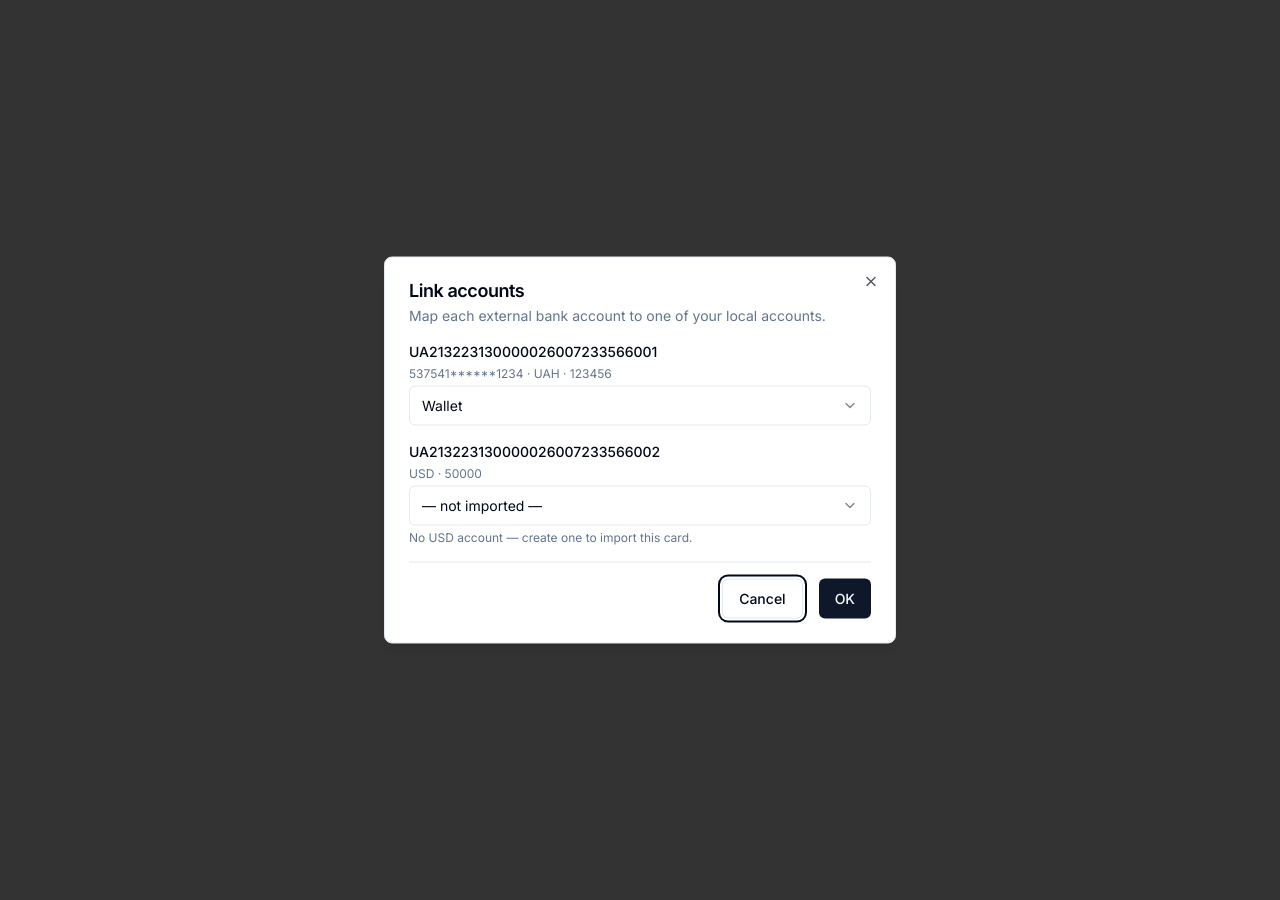
LinkAccountsDialog › keeps the sole current mapping selectable and hides the empty-state hint
What coordinates should you click on to do the following:
click the dropdown named "UA213223130000026007233566001"
I would click on:
 (442, 405)
Its box is [409,386,871,426].
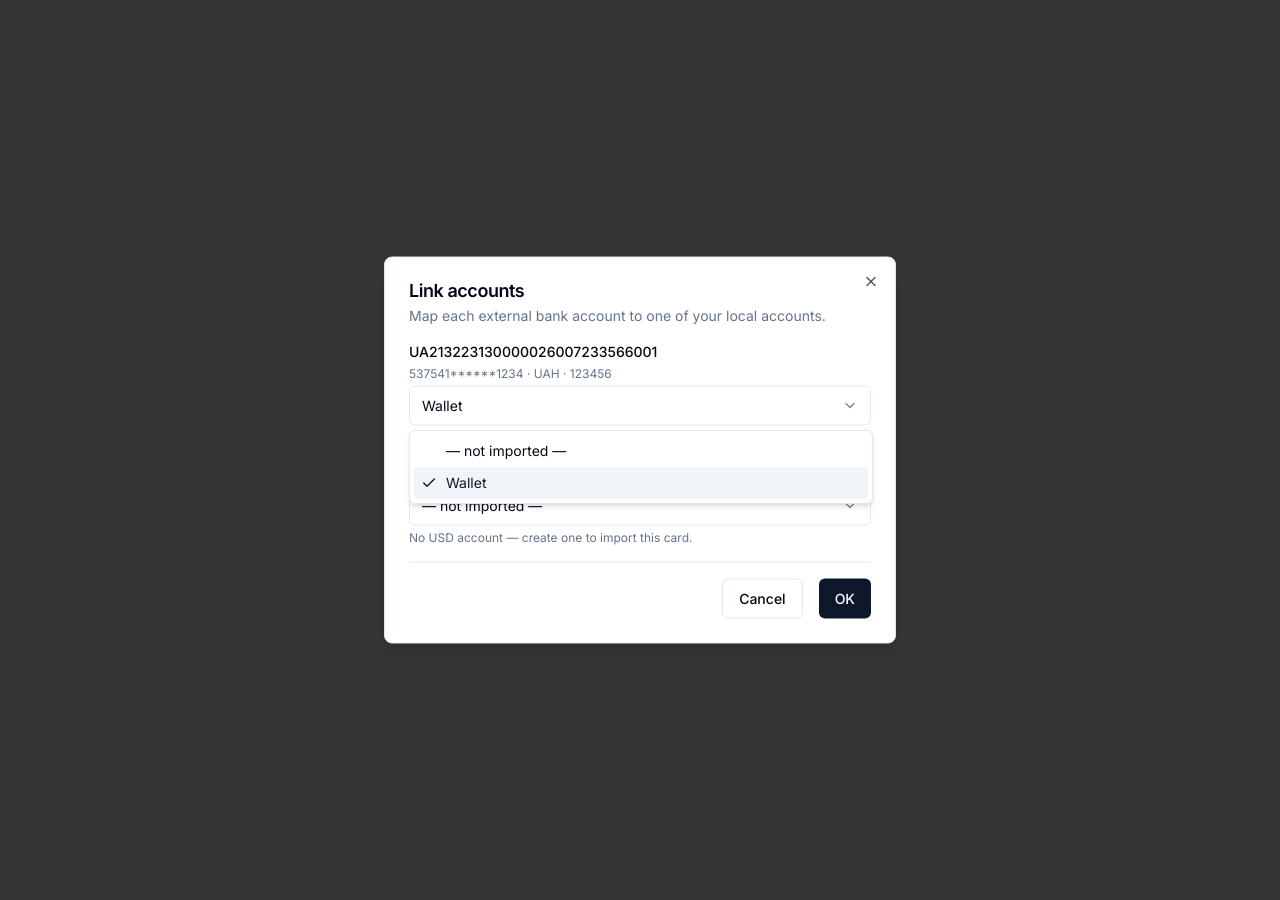
Now the option "Wallet" is shown, box [414,467,868,499]
